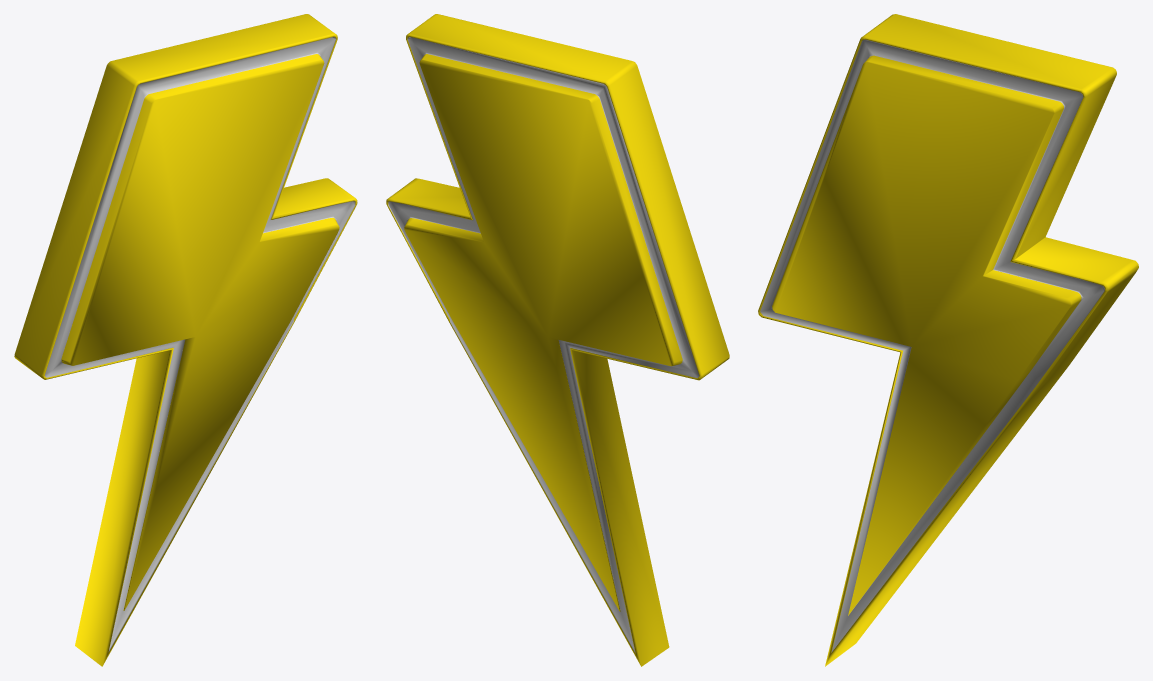
The model's file is lightning.glb.
3 renders of one model, left to right at view 1: azimuth 30°, elevation 25°; view 2: azimuth 150°, elevation 25°; view 3: azimuth 330°, elevation 25°, orthographic. The views are drawn at different scales.
Visible parts, largest first — view 1: pPlane1; view 2: pPlane1; view 3: pPlane1.
Boxes of the visible parts, x1,y1,x2,y2 form: pPlane1: (14,14,357,666); pPlane1: (386,14,729,666); pPlane1: (758,14,1138,666).
Size of the model in its own units: 1.27 by 2.22 by 0.2987.
